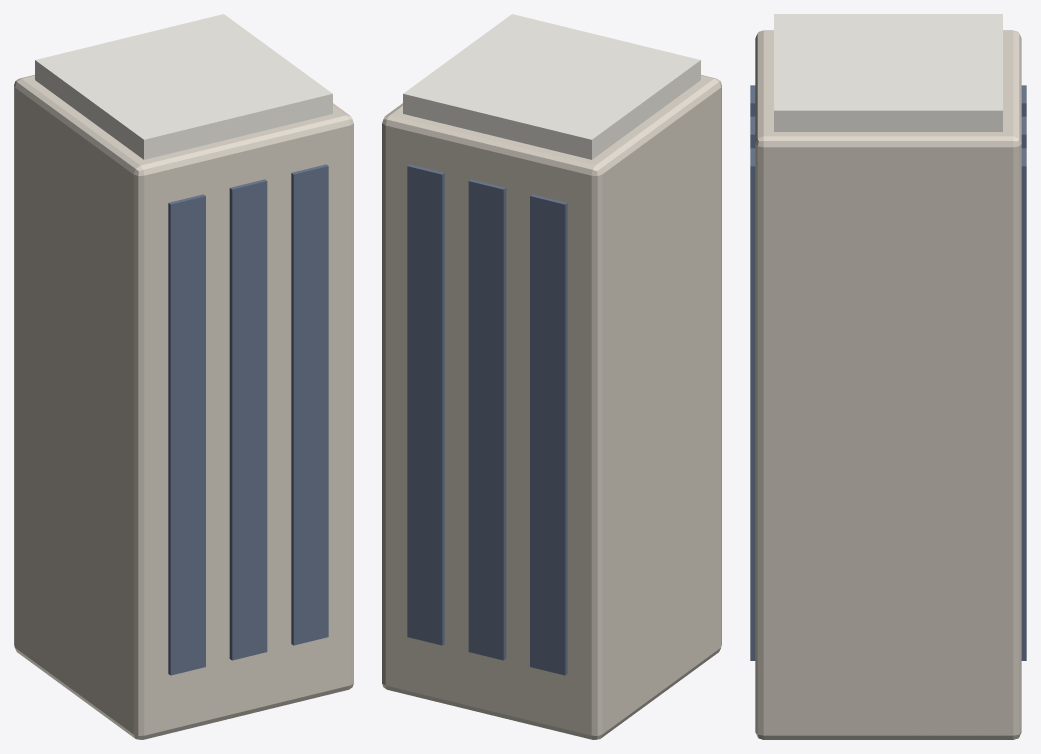
File: building_a.glb
3 renders of one model, left to right at view 1: azimuth 30°, elevation 25°; view 2: azimuth 150°, elevation 25°; view 3: azimuth 270°, elevation 25°, orthographic. The views are drawn at different scales.
Visible parts, largest first — view 1: BuildingA; view 2: BuildingA; view 3: BuildingA.
Part boxes in pixels (<box>): BuildingA: <box>14,14,353,739</box>; BuildingA: <box>382,14,721,739</box>; BuildingA: <box>750,14,1026,739</box>.
Size of the model in its own units: 8 by 20.7 by 8.3.
